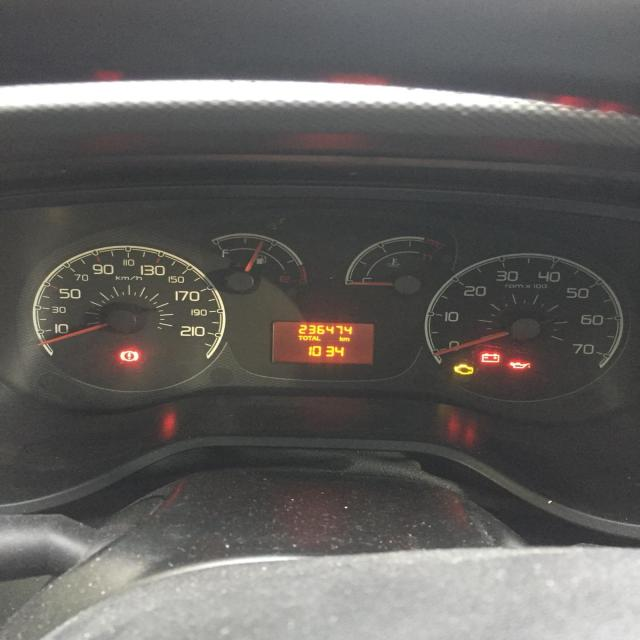odometer: (271, 319, 375, 366)
